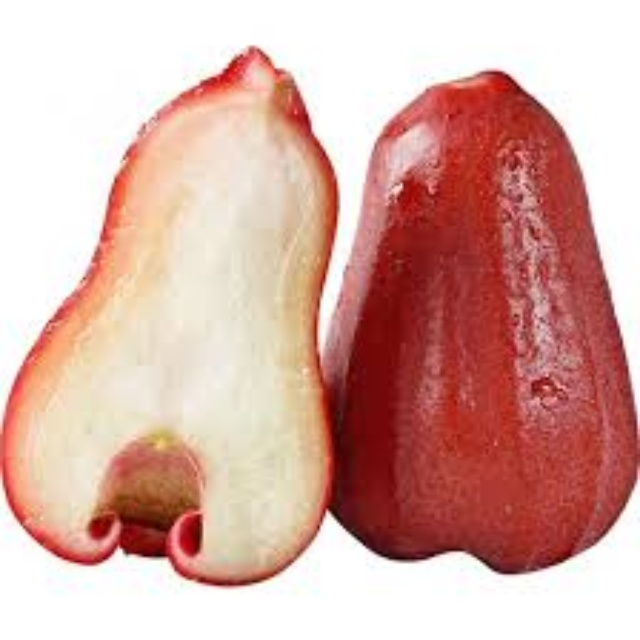xoai: (320, 52, 640, 575)
